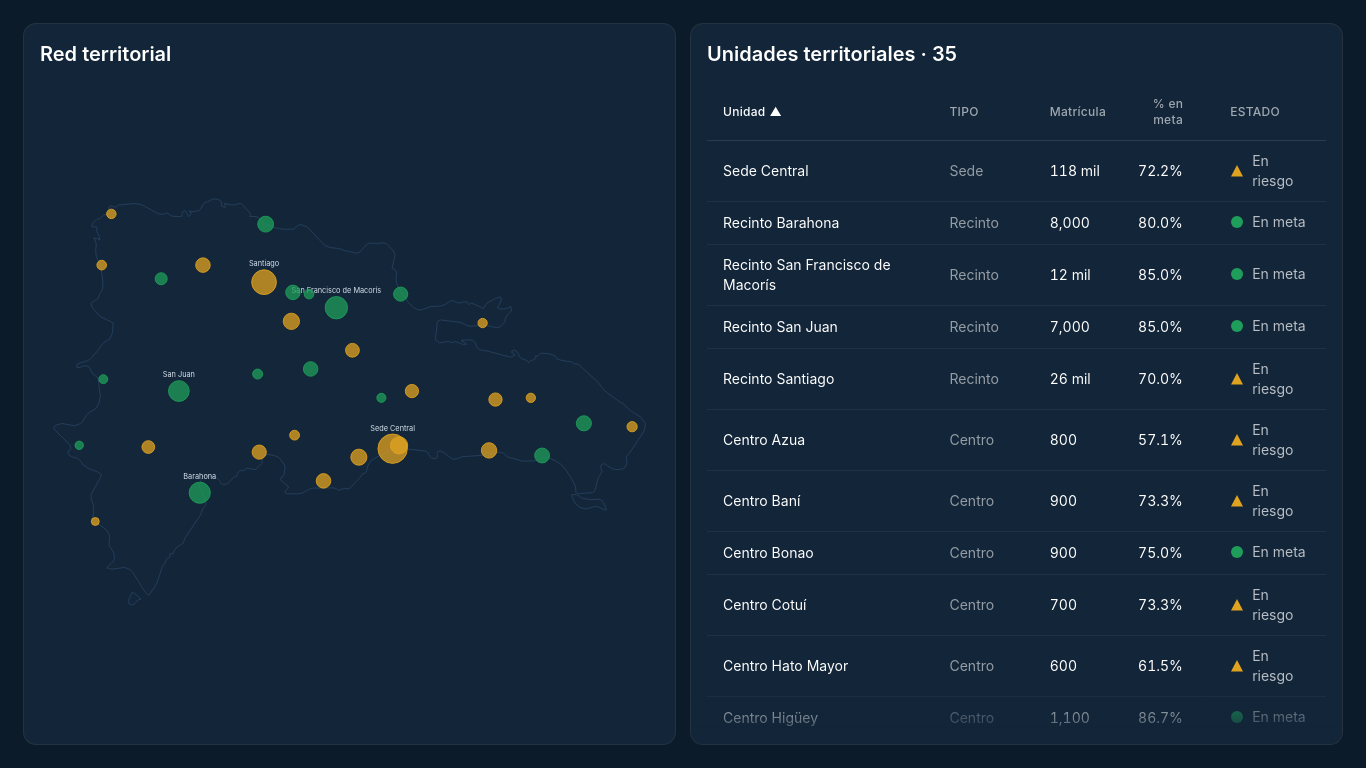
Test: Territorial › muestra una flecha visual junto al encabezado activo
Expected: the button "Unidad▲" is shown, [723,104,782,120]
What coordinates should you click on to do the following:
click the button "% en meta"
I would click on:
 (1168, 112)
Its box is [1138,96,1198,128].
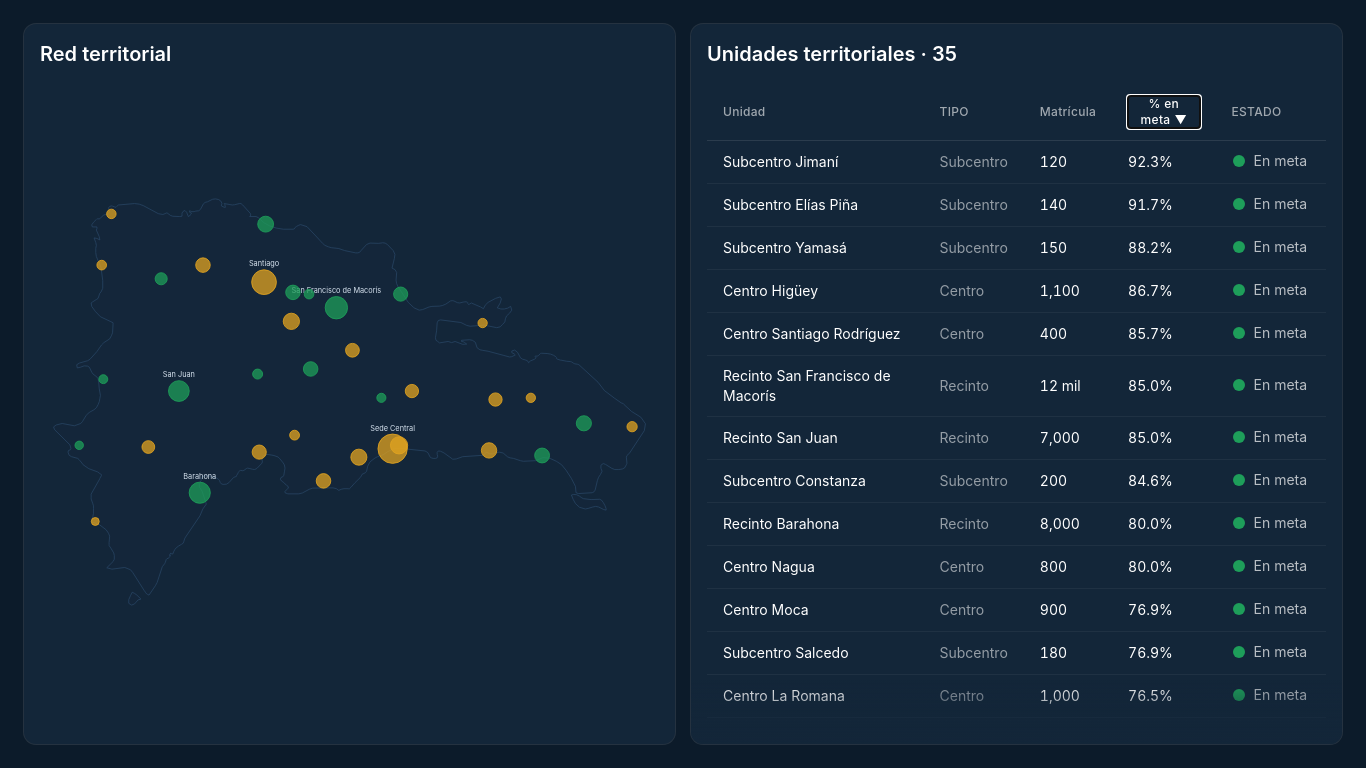
Expected: the button "% en meta▼" is shown, [1128,96,1200,128]
